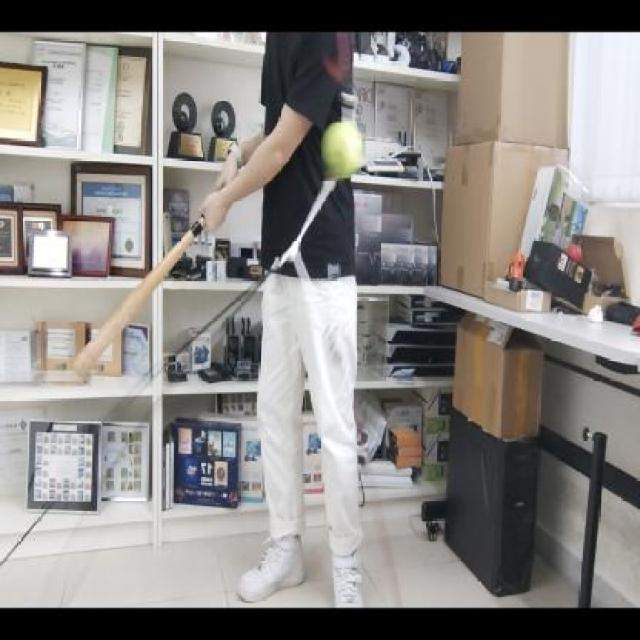baseball: (322, 120, 363, 183)
